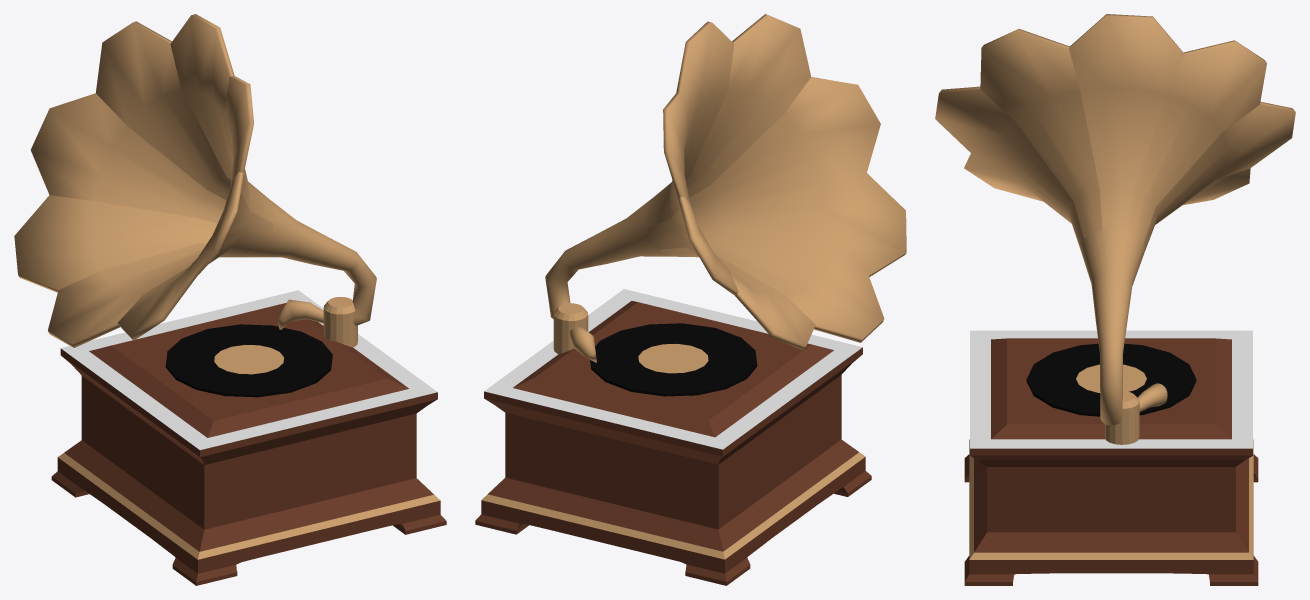
File: Gramaphone.fbx
The picture shows the model from 3 angles, left to right: view 1: azimuth 30°, elevation 25°; view 2: azimuth 150°, elevation 25°; view 3: azimuth 270°, elevation 25°; orthographic projection.
Parts seen in each view (by area): view 1: Cube.022; view 2: Cube.022; view 3: Cube.022.
Part boxes in pixels (x1,y1,x2,y2): Cube.022: (14, 14, 446, 585); Cube.022: (475, 14, 906, 585); Cube.022: (935, 14, 1295, 585).
Bounding box in the file's own units: 33.18 × 47.85 × 31.8.
